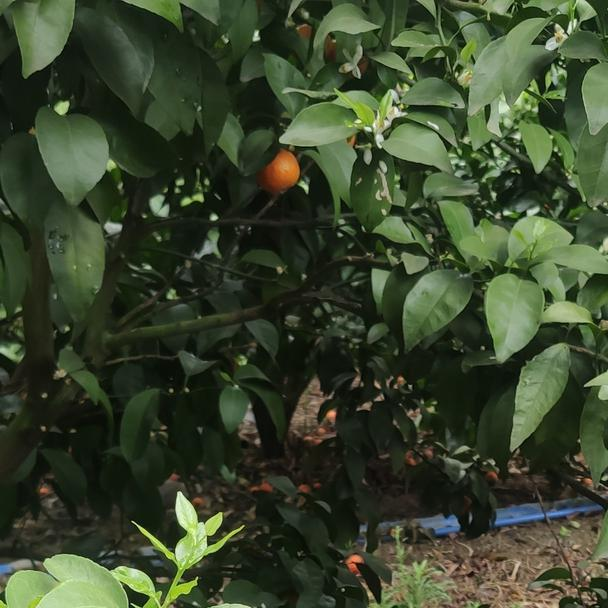shoot: (122, 498, 244, 608)
